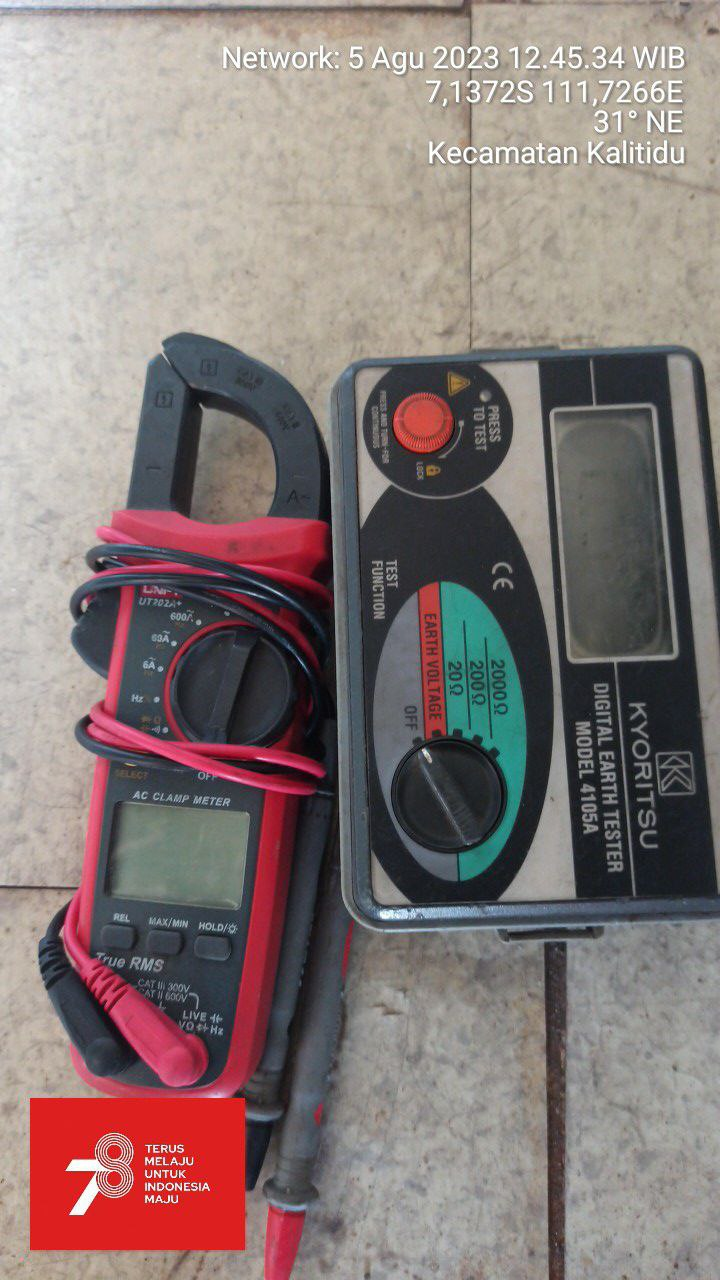EARTH_GROUNDING_TESTER: (333, 345, 720, 937)
TANG_AMPERE: (57, 331, 333, 1100)
